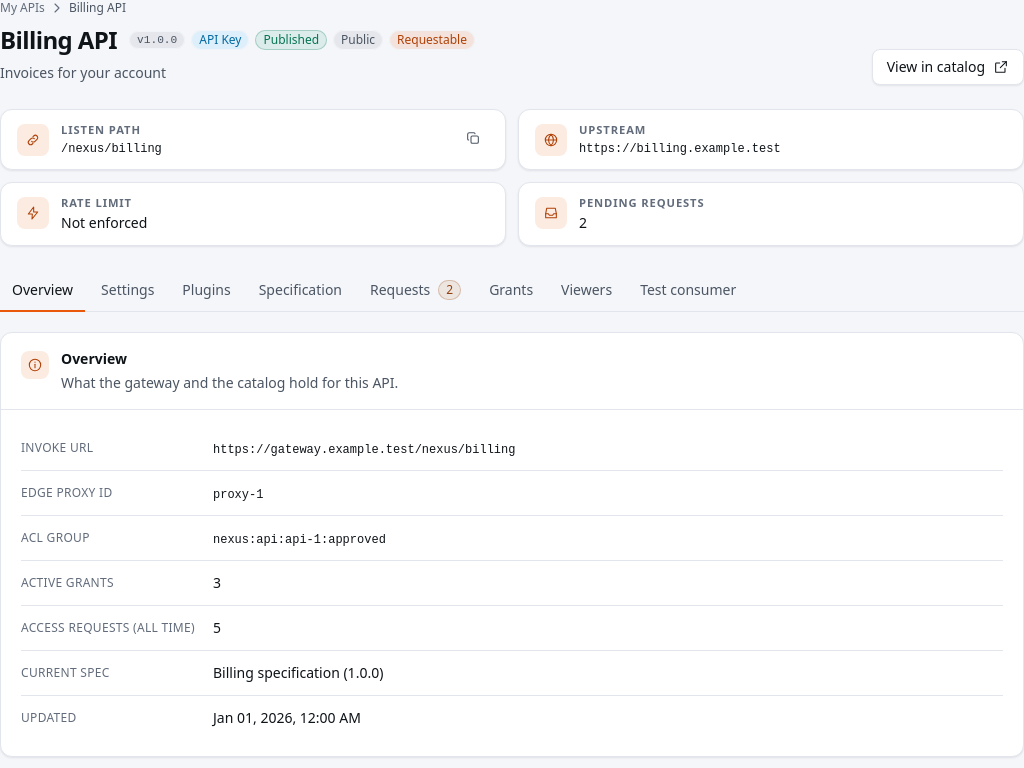
Scenario: provider specification and sandbox credentials › lists revision history and rolls one back after reviewing it
Check: the heading "Billing API" is shown, box [0,24,117,56]
Press the mouse on the tab "Specification" at (300, 291), box [247,270,354,312]
(page scrolled)
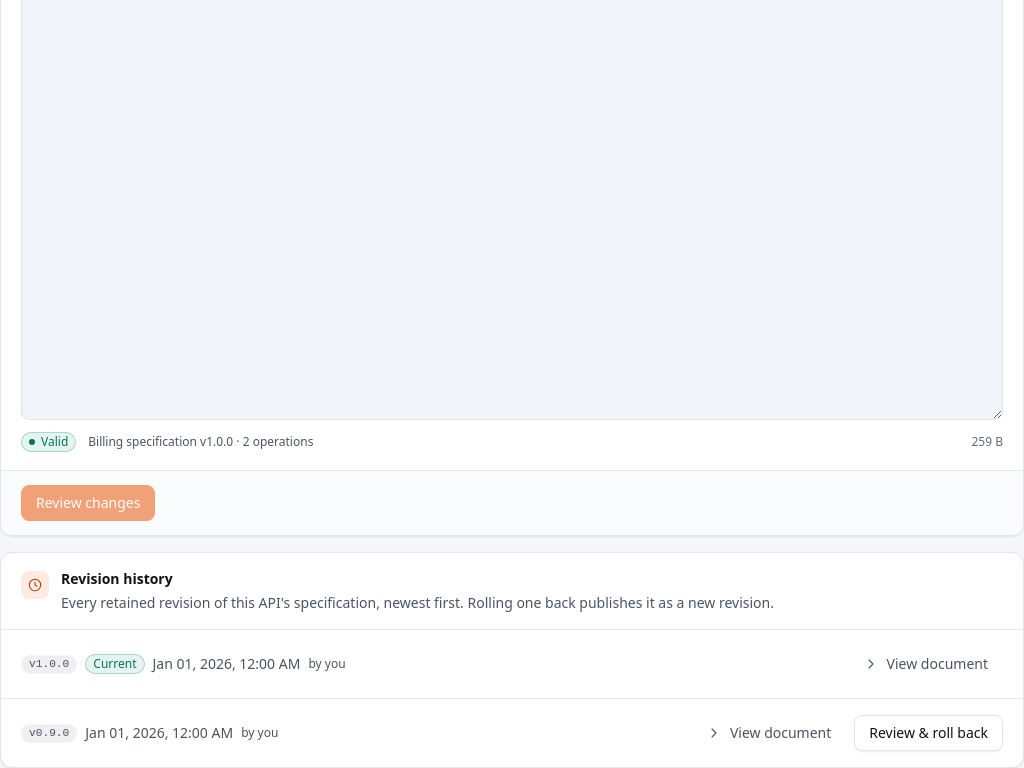
Check: the heading "Revision history" is shown, box [61,569,173,588]
Check: the text "v0.9.0" is shown, box [21,724,77,743]
Check: the number of buttons "Review & roll back" is 1
Click the button "Review & roll back" at (929, 733), box [854,715,1003,751]
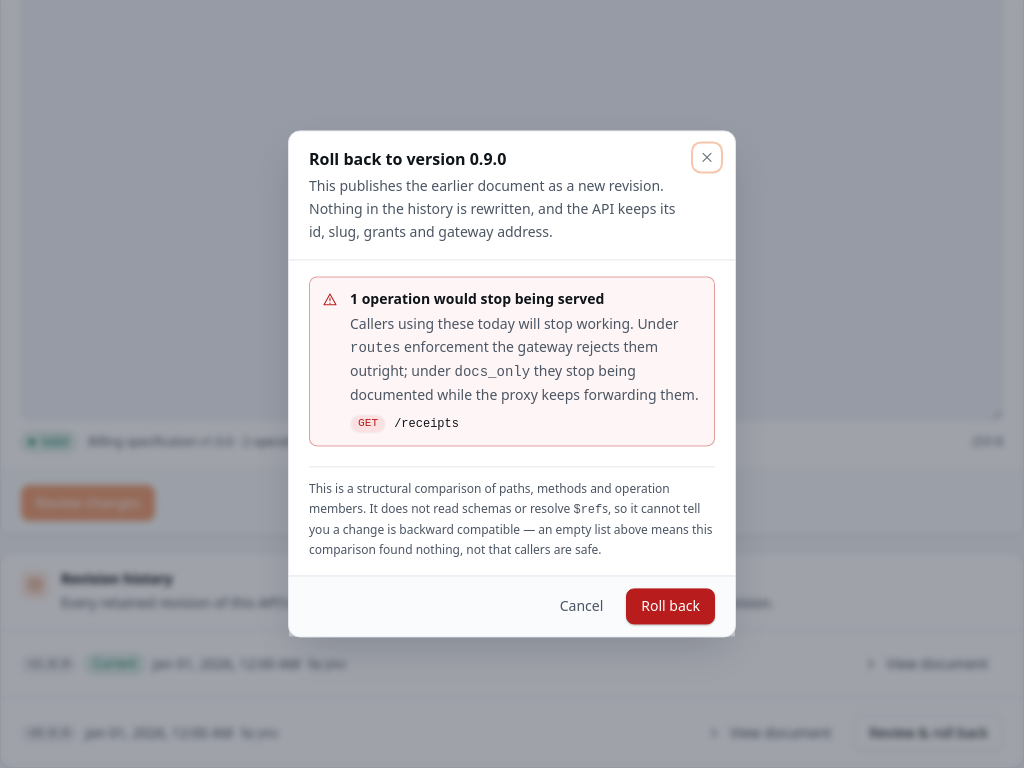
Check: the text "1 operation would stop being served" is shown, box [350,290,604,309]
Click the button "Roll back" at (671, 607), box [626,589,715,625]
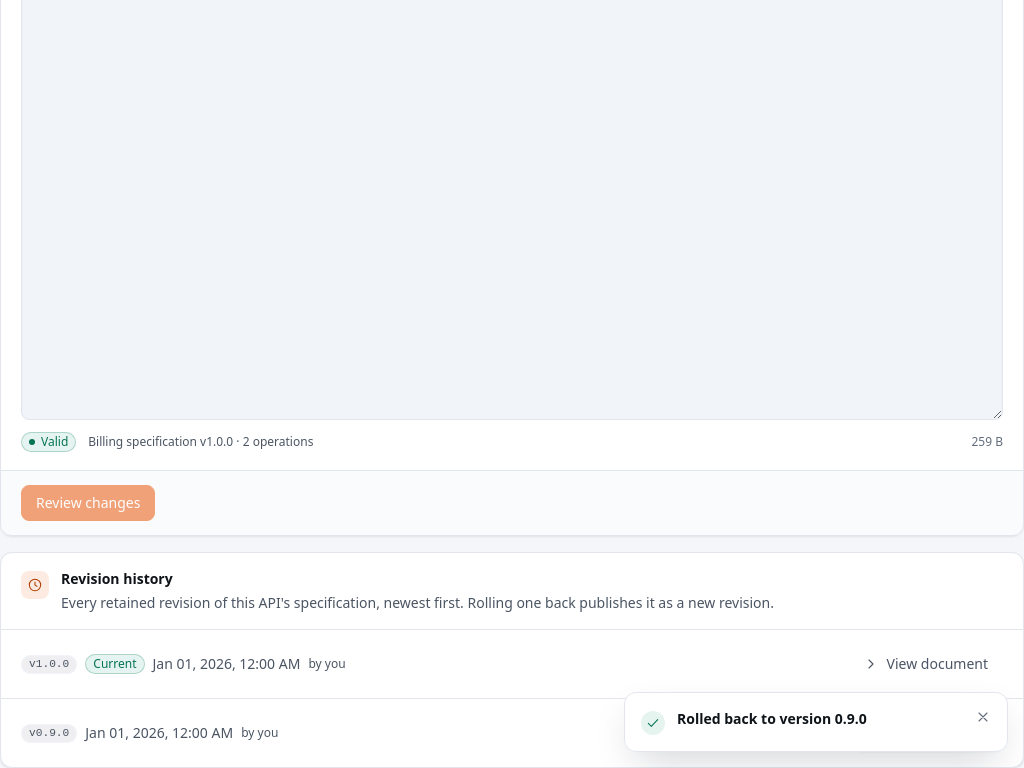
Check: the text "Rolled back to version 0.9.0" is shown, box [677,709,867,728]
